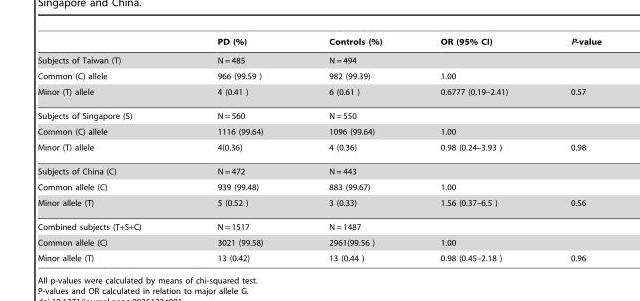table: (37, 37, 601, 262)
table column: (37, 37, 178, 262), (410, 37, 538, 262), (178, 37, 295, 262), (295, 37, 410, 262), (538, 37, 601, 262)
table column header: (37, 37, 601, 50)
table row: (37, 213, 601, 234), (37, 83, 601, 103), (37, 103, 601, 123), (37, 139, 601, 159), (37, 159, 601, 179), (37, 194, 601, 213), (37, 50, 601, 68), (37, 123, 601, 139), (37, 234, 601, 250), (37, 68, 601, 83), (37, 179, 601, 194), (37, 37, 601, 50), (37, 250, 601, 262)
